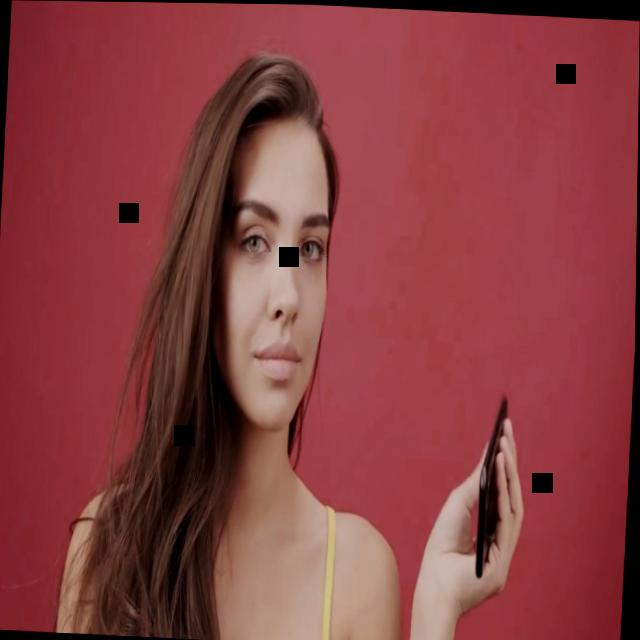NO-Mask: (210, 137, 334, 432)
